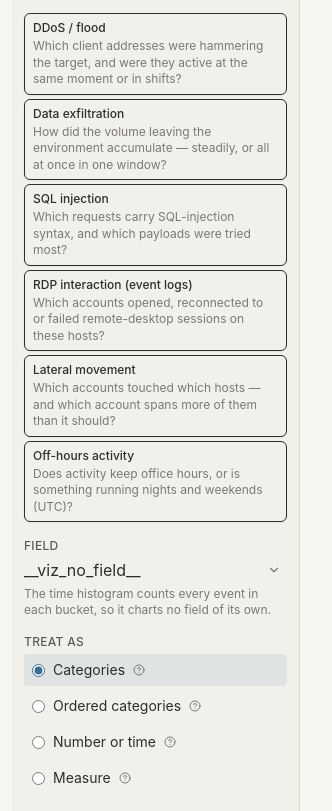
Test: ChartRail › offers 'No field — count every event' first, so the top control is never inert
Step 1. Focus the dropdown named "field" → point(148, 570), box [24, 558, 272, 582]
(page scrolled)
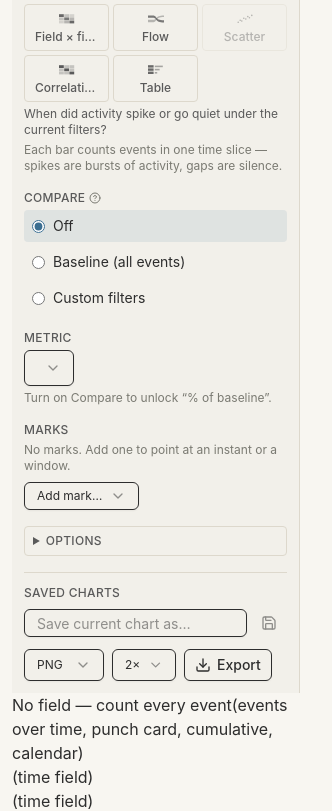
Expected: the option that starts with "No field — count every event" is shown, [12, 693, 275, 765]
